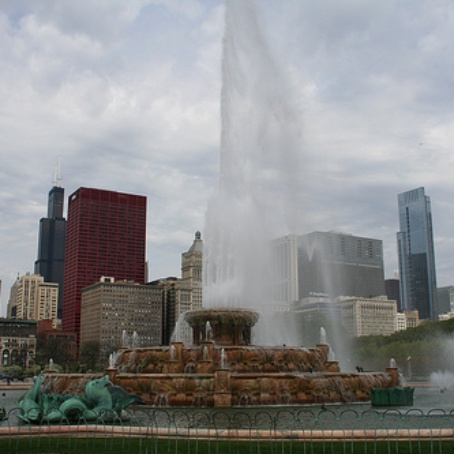building: (284, 238, 384, 351), (69, 185, 145, 331), (86, 271, 168, 367), (390, 186, 440, 321), (34, 189, 70, 283), (7, 276, 63, 328)
fountain: (63, 14, 411, 422)
sky: (1, 1, 441, 174)
